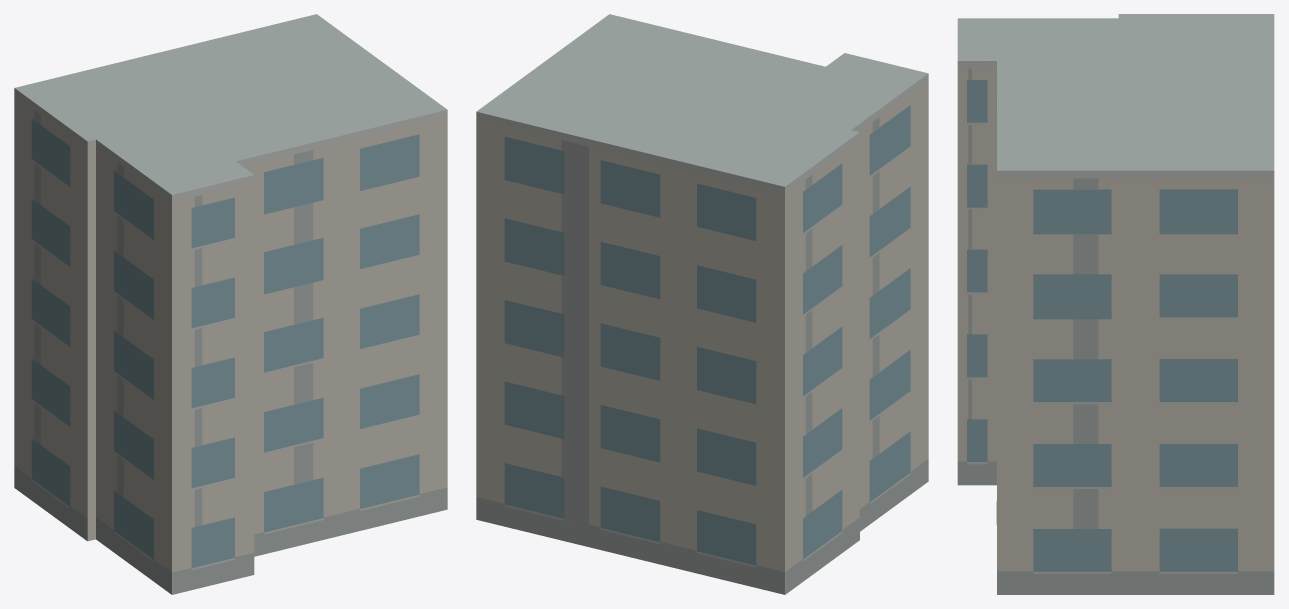
Rendered from survey-upis-32737785.glb.
3 views of the same model, side by side, from view 1: azimuth 30°, elevation 25°; view 2: azimuth 150°, elevation 25°; view 3: azimuth 270°, elevation 25° (orthographic). The views are drawn at different scales.
Parts seen in each view (by area): view 1: survey-upis-32737785.tmp; view 2: survey-upis-32737785.tmp; view 3: survey-upis-32737785.tmp.
Part boxes in pixels (box(x1,y1,x2,y2)): survey-upis-32737785.tmp: box(14, 14, 447, 594); survey-upis-32737785.tmp: box(476, 14, 928, 594); survey-upis-32737785.tmp: box(957, 14, 1274, 594).
Bounding box in the file's own units: 10.64 × 13.4 × 9.1.
